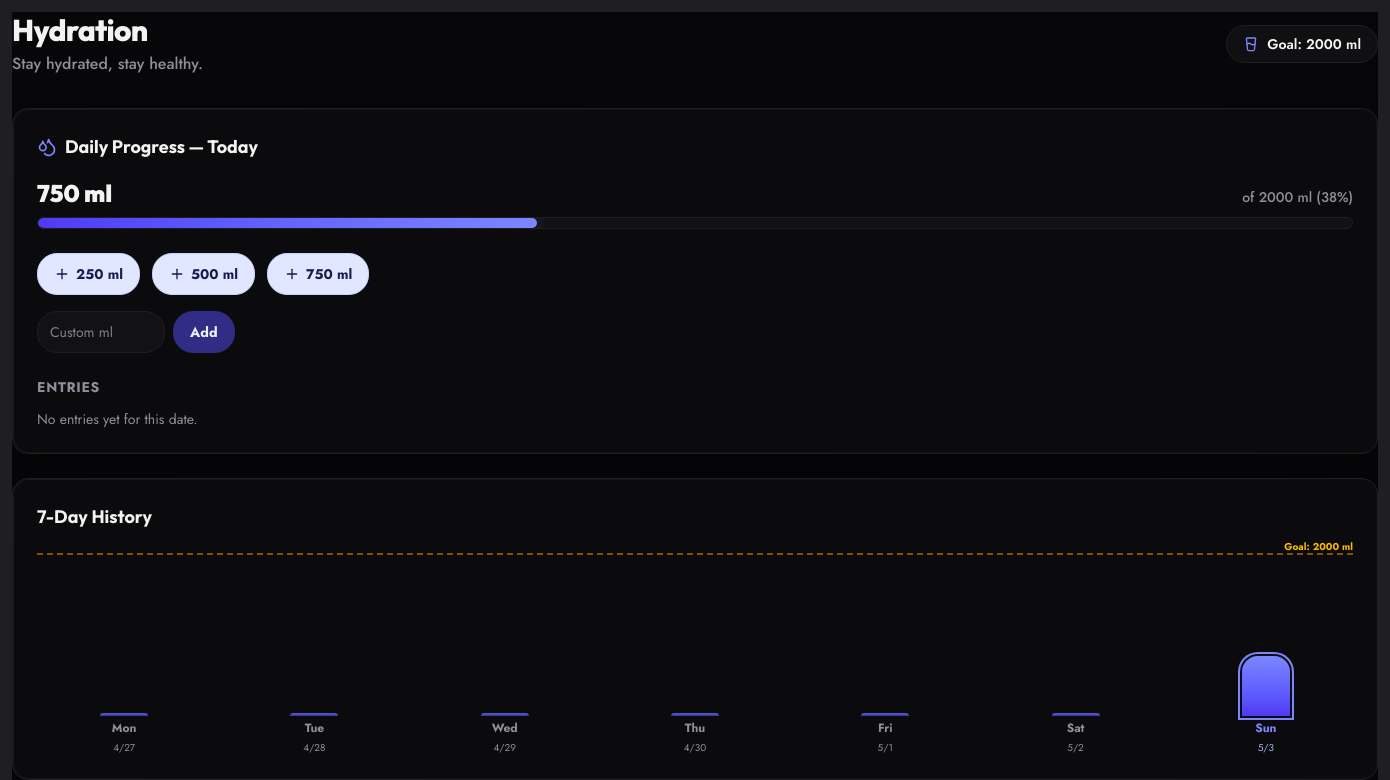
it: HydrationPage › custom amount input › shows error for invalid custom amount (0)
In the number field with placeholder "Custom ml": (101, 332) [37,311,165,353], type "0"
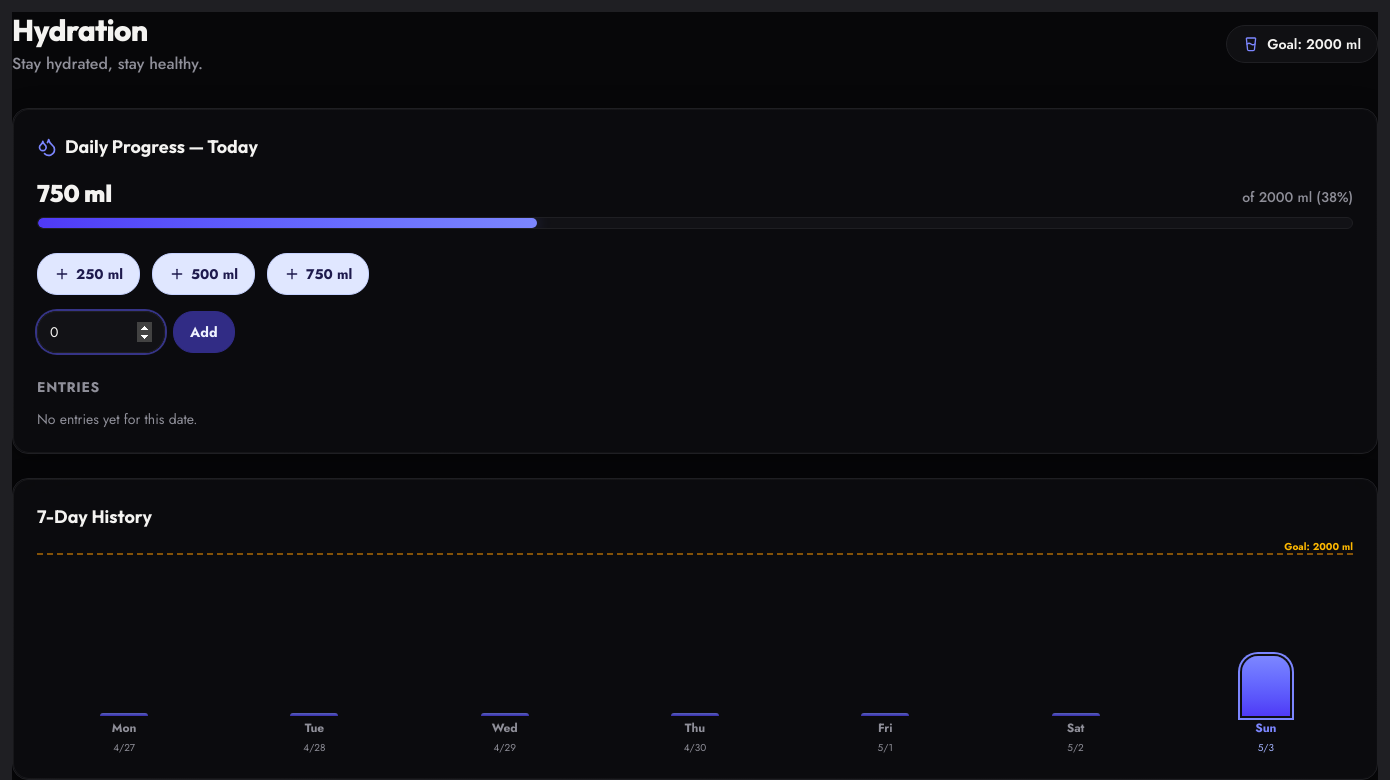
Click the button "Add": (204, 332) [173,311,235,353]
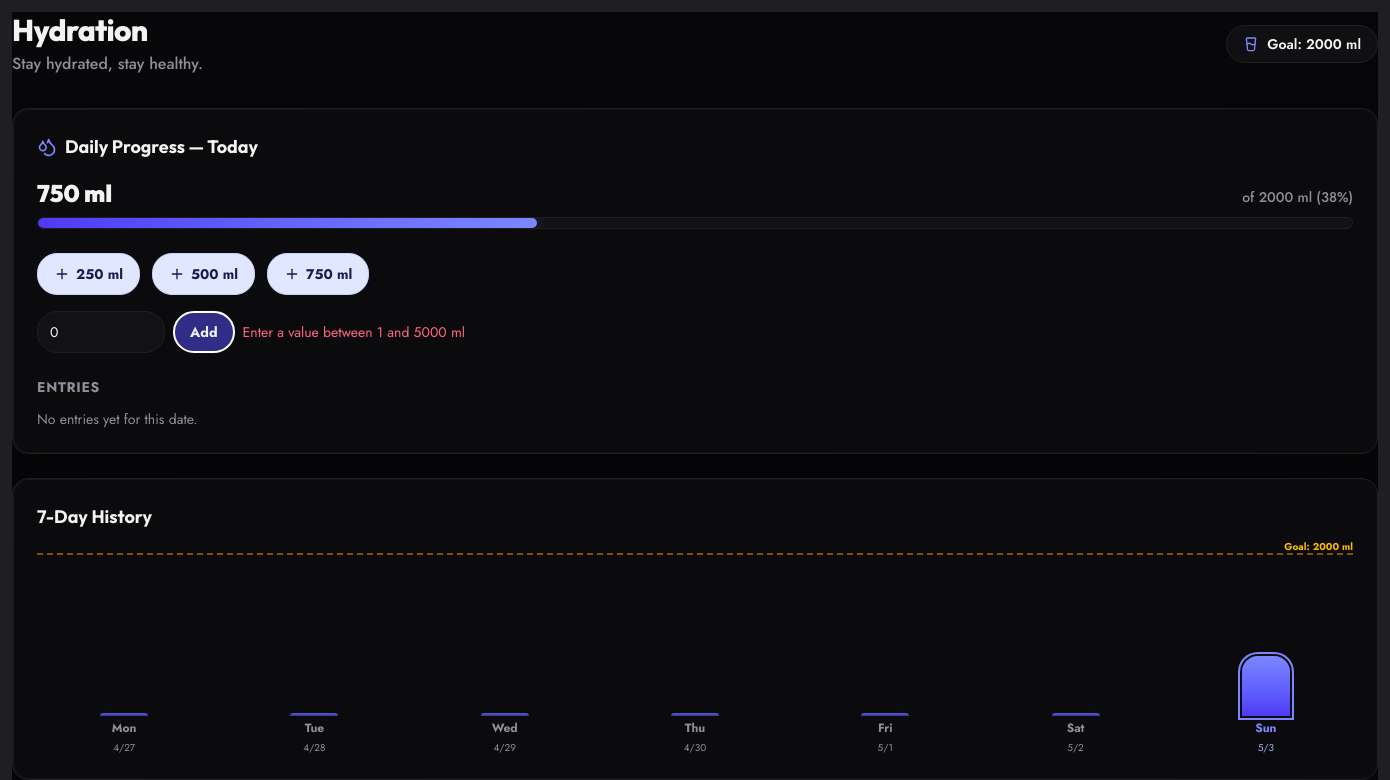
Expected: the text "Enter a value between 1 and 5000 ml" is shown, [243,322,465,342]
